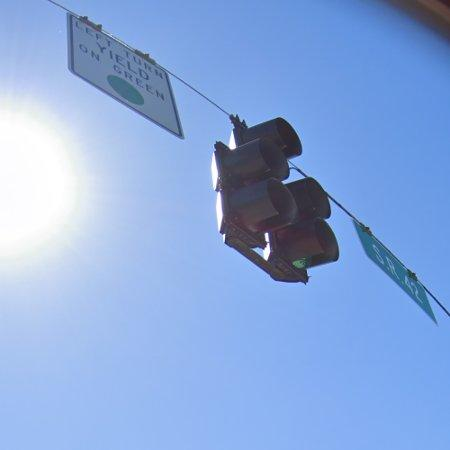traffic lights: (213, 116, 340, 284)
